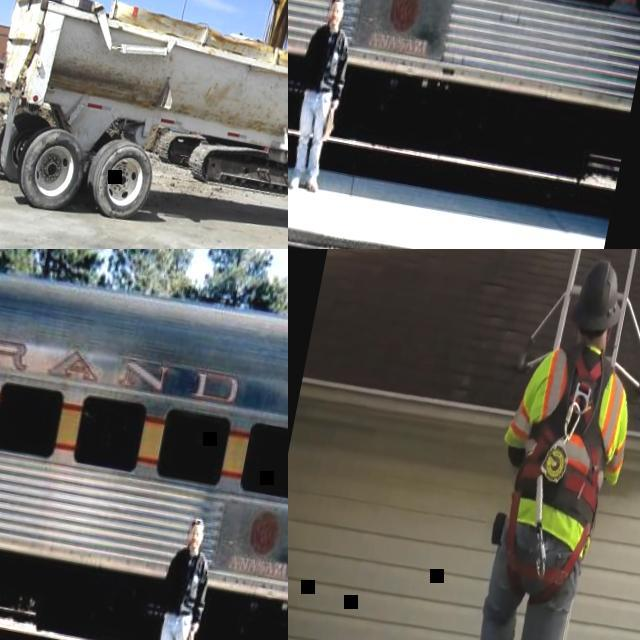helmet: (568, 257, 630, 338)
vest: (495, 341, 640, 532)
